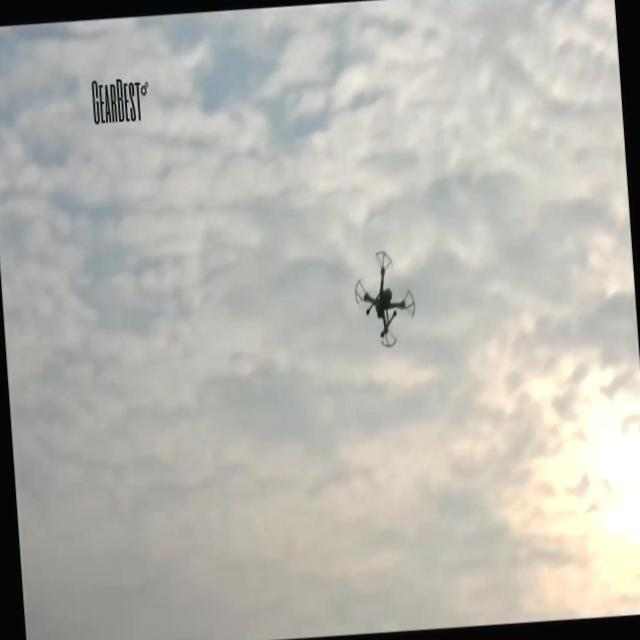drone: (349, 245, 419, 350)
